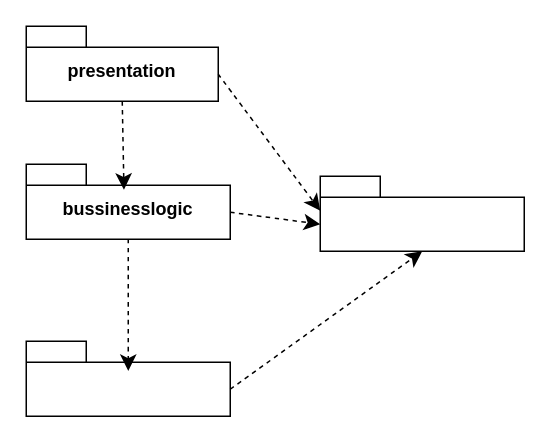
Image size: 551x443. Some labels were removed from this diagram. The box of each missing label's shape, as (x1, y1, x2, y2) in pixels:
dataaccess: (25, 340, 230, 416)
datamodel: (319, 175, 524, 251)
